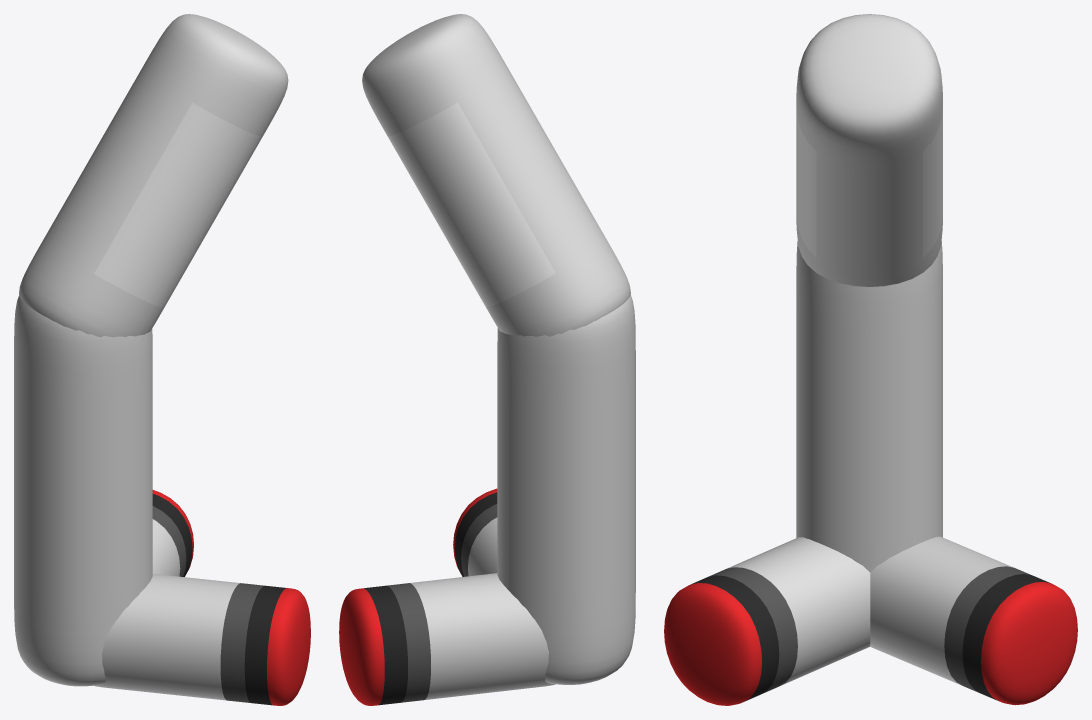
The model's file is pneumatic_flag.fbx.
3 views of the same model, side by side, from view 1: azimuth 30°, elevation 25°; view 2: azimuth 150°, elevation 25°; view 3: azimuth 270°, elevation 25° (orthographic). The views are drawn at different scales.
Visible parts, largest first — view 1: наклоненый столб, столб, ножка 2, ножка 1; view 2: наклоненый столб, столб, ножка 1, ножка 2; view 3: столб, наклоненый столб, ножка 1, ножка 2.
Part boxes in pixels (x1,y1,x2,y2): наклоненый столб: (19, 14, 288, 337); столб: (14, 296, 152, 686); ножка 2: (94, 574, 310, 705); ножка 1: (152, 490, 193, 576); наклоненый столб: (362, 14, 630, 336); столб: (497, 295, 635, 684); ножка 1: (339, 573, 555, 705); ножка 2: (453, 488, 497, 576); столб: (796, 241, 942, 572); наклоненый столб: (796, 14, 942, 286); ножка 1: (870, 536, 1077, 705); ножка 2: (664, 537, 870, 705).
Size of the model in its own units: 460 by 1090 by 604.
